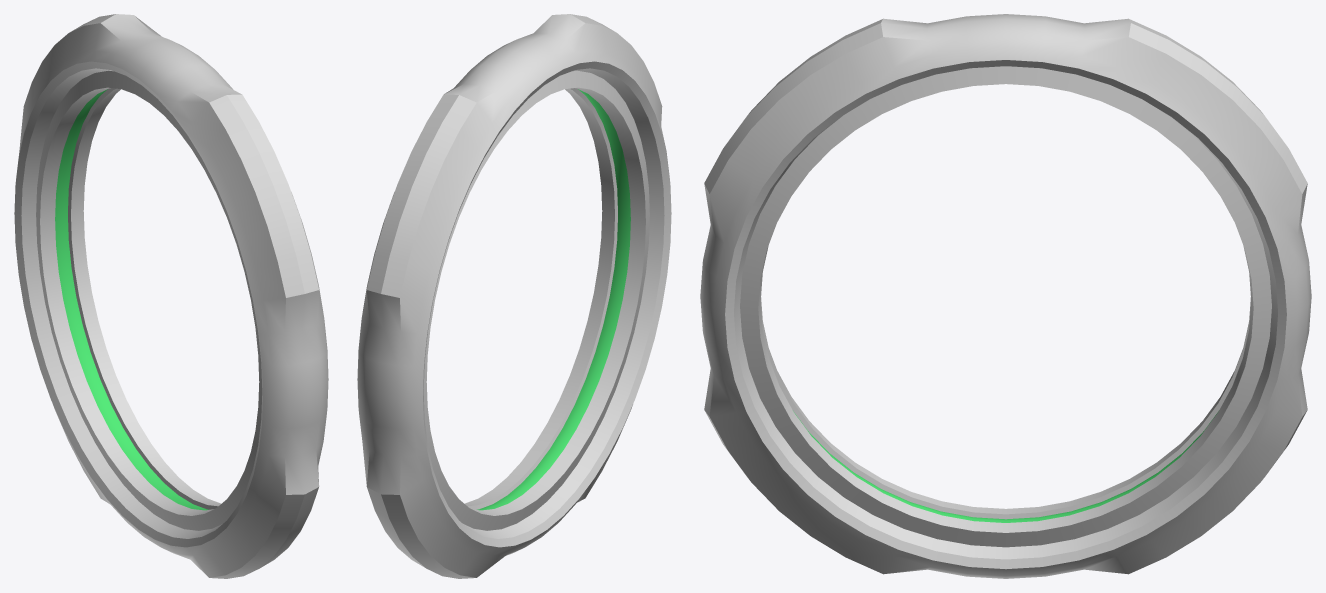
Rendered from SM_Anneau.fbx.
3 renders of one model, left to right at view 1: azimuth 30°, elevation 25°; view 2: azimuth 150°, elevation 25°; view 3: azimuth 270°, elevation 25°, orthographic. The views are drawn at different scales.
Parts seen in each view (by area): view 1: Anneau; view 2: Anneau; view 3: Anneau.
Part boxes in pixels (x1=…): Anneau: x1=14, y1=14, x2=328, y2=578; Anneau: x1=357, y1=14, x2=671, y2=578; Anneau: x1=700, y1=14, x2=1311, y2=578.
Bounding box in the file's own units: 263 × 1882 × 1882.
